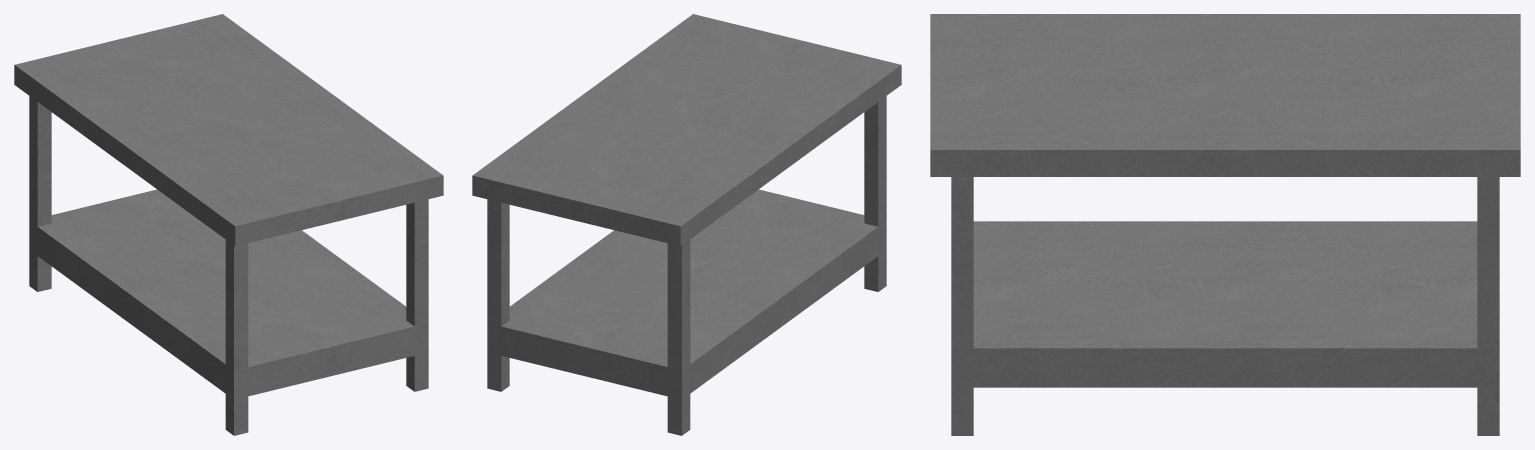
Rendered from Mesh_Table_Cuisine.FBX.
3 renders of one model, left to right at view 1: azimuth 30°, elevation 25°; view 2: azimuth 150°, elevation 25°; view 3: azimuth 270°, elevation 25°, orthographic. The views are drawn at different scales.
Parts seen in each view (by area): view 1: Box014; view 2: Box014; view 3: Box014.
Boxes of the visible parts, <box> form: Box014: <box>14,14,443,435</box>; Box014: <box>472,14,901,435</box>; Box014: <box>930,14,1520,435</box>.
Bounding box in the file's own units: 47.87 × 47.66 × 87.83.
